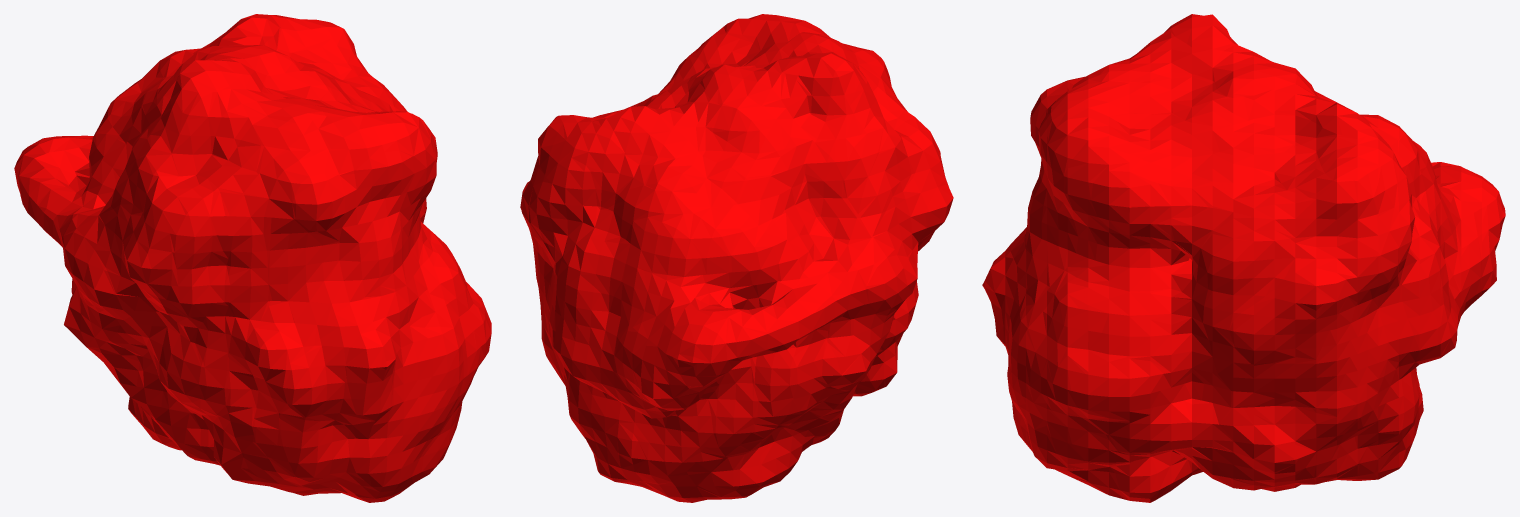
Rendered from pqqL_coarse.dae.
3 renders of one model, left to right at view 1: azimuth 30°, elevation 25°; view 2: azimuth 150°, elevation 25°; view 3: azimuth 270°, elevation 25°, orthographic. The views are drawn at different scales.
Parts seen in each view (by area): view 1: pqqL; view 2: pqqL; view 3: pqqL.
Part boxes in pixels (<box>): pqqL: <box>14,14,491,502</box>; pqqL: <box>520,14,953,502</box>; pqqL: <box>982,14,1505,502</box>.
Bounding box in the file's own units: 66.54 × 77.31 × 85.59.
